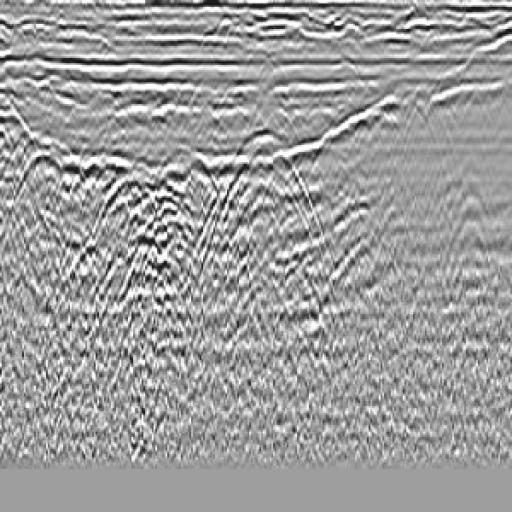metalic: (201, 123, 348, 315)
